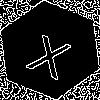X: (25, 25, 78, 80)
